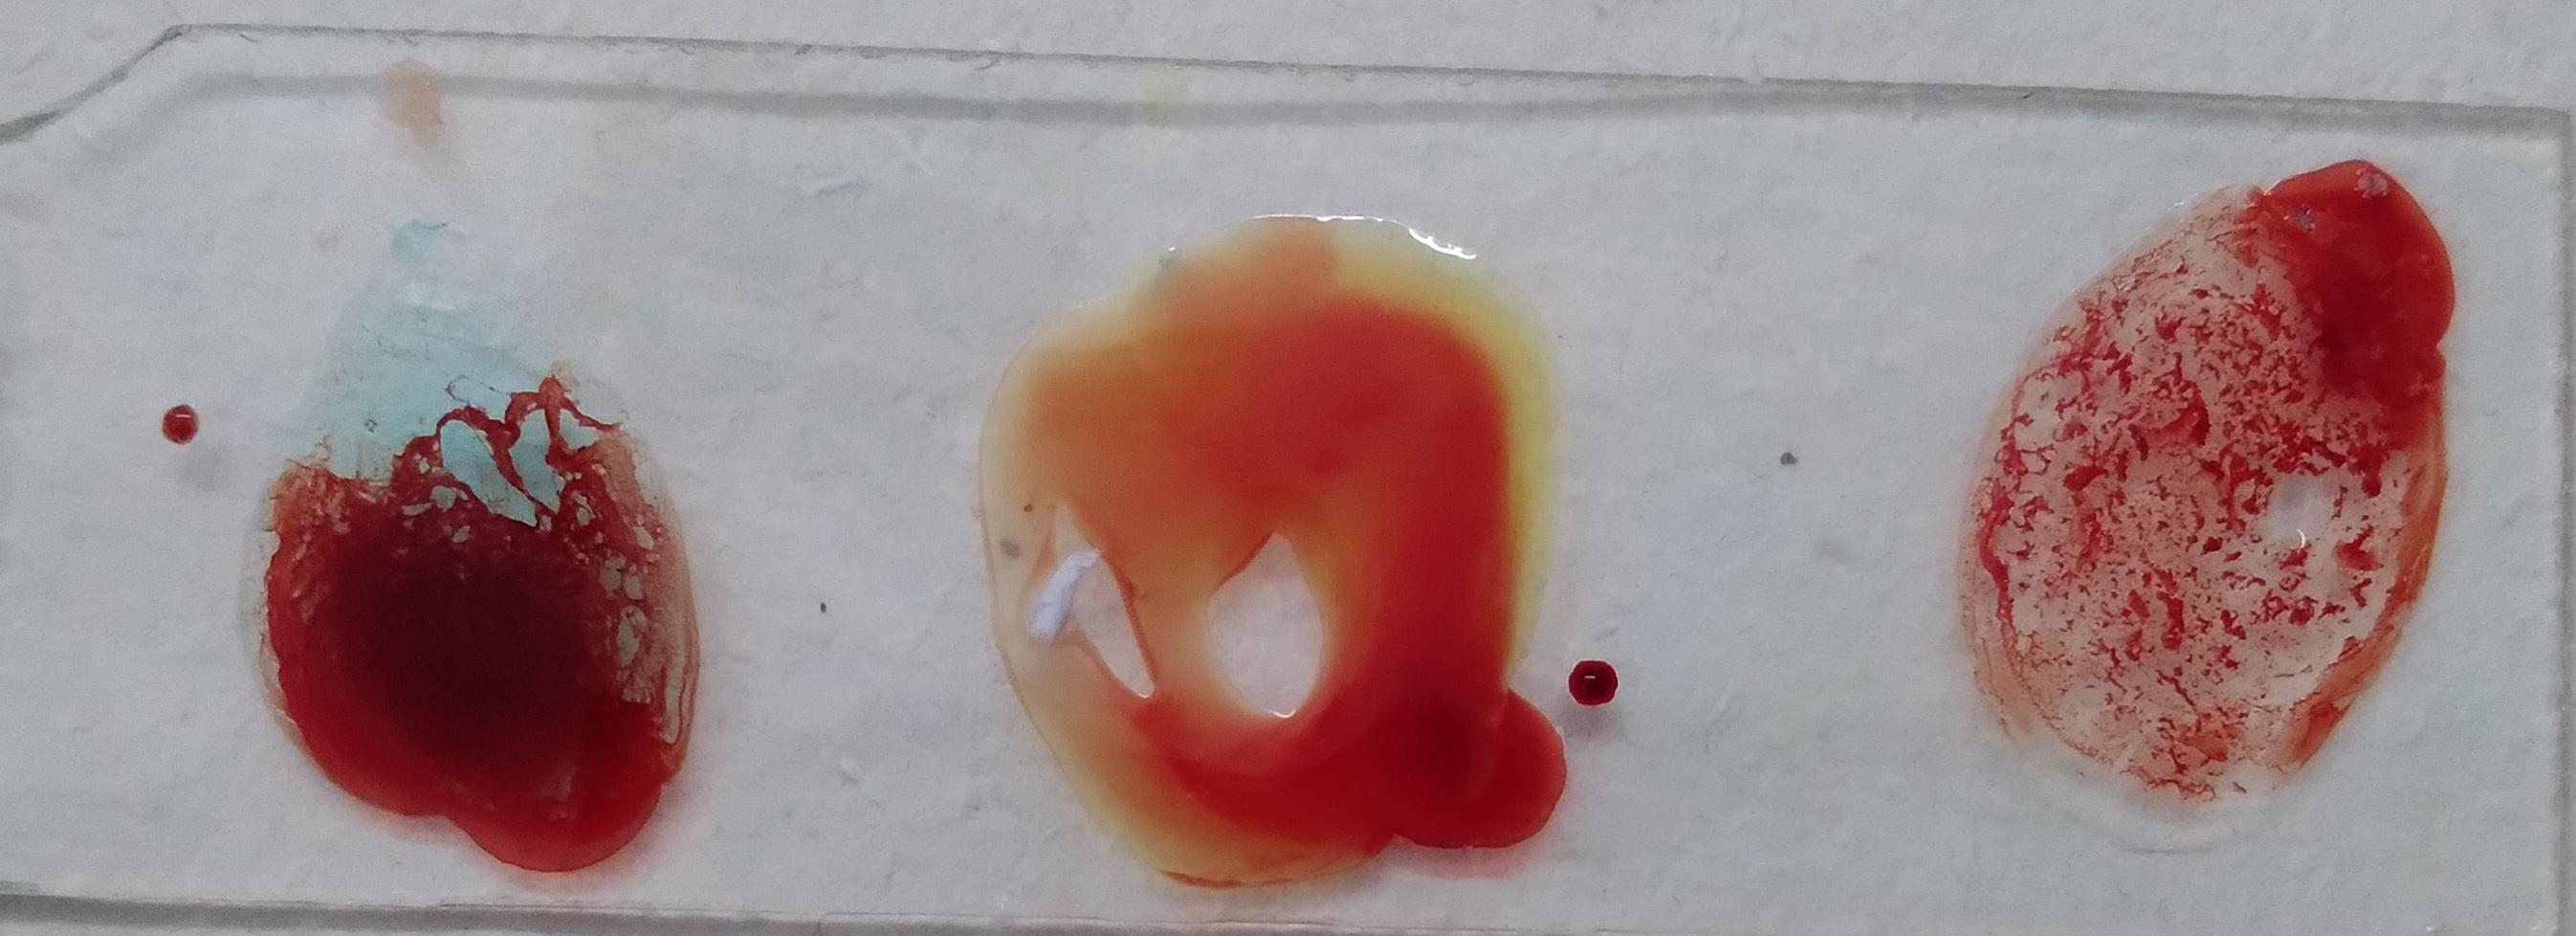A: (1848, 58, 2348, 689)
D: (141, 140, 601, 763)
